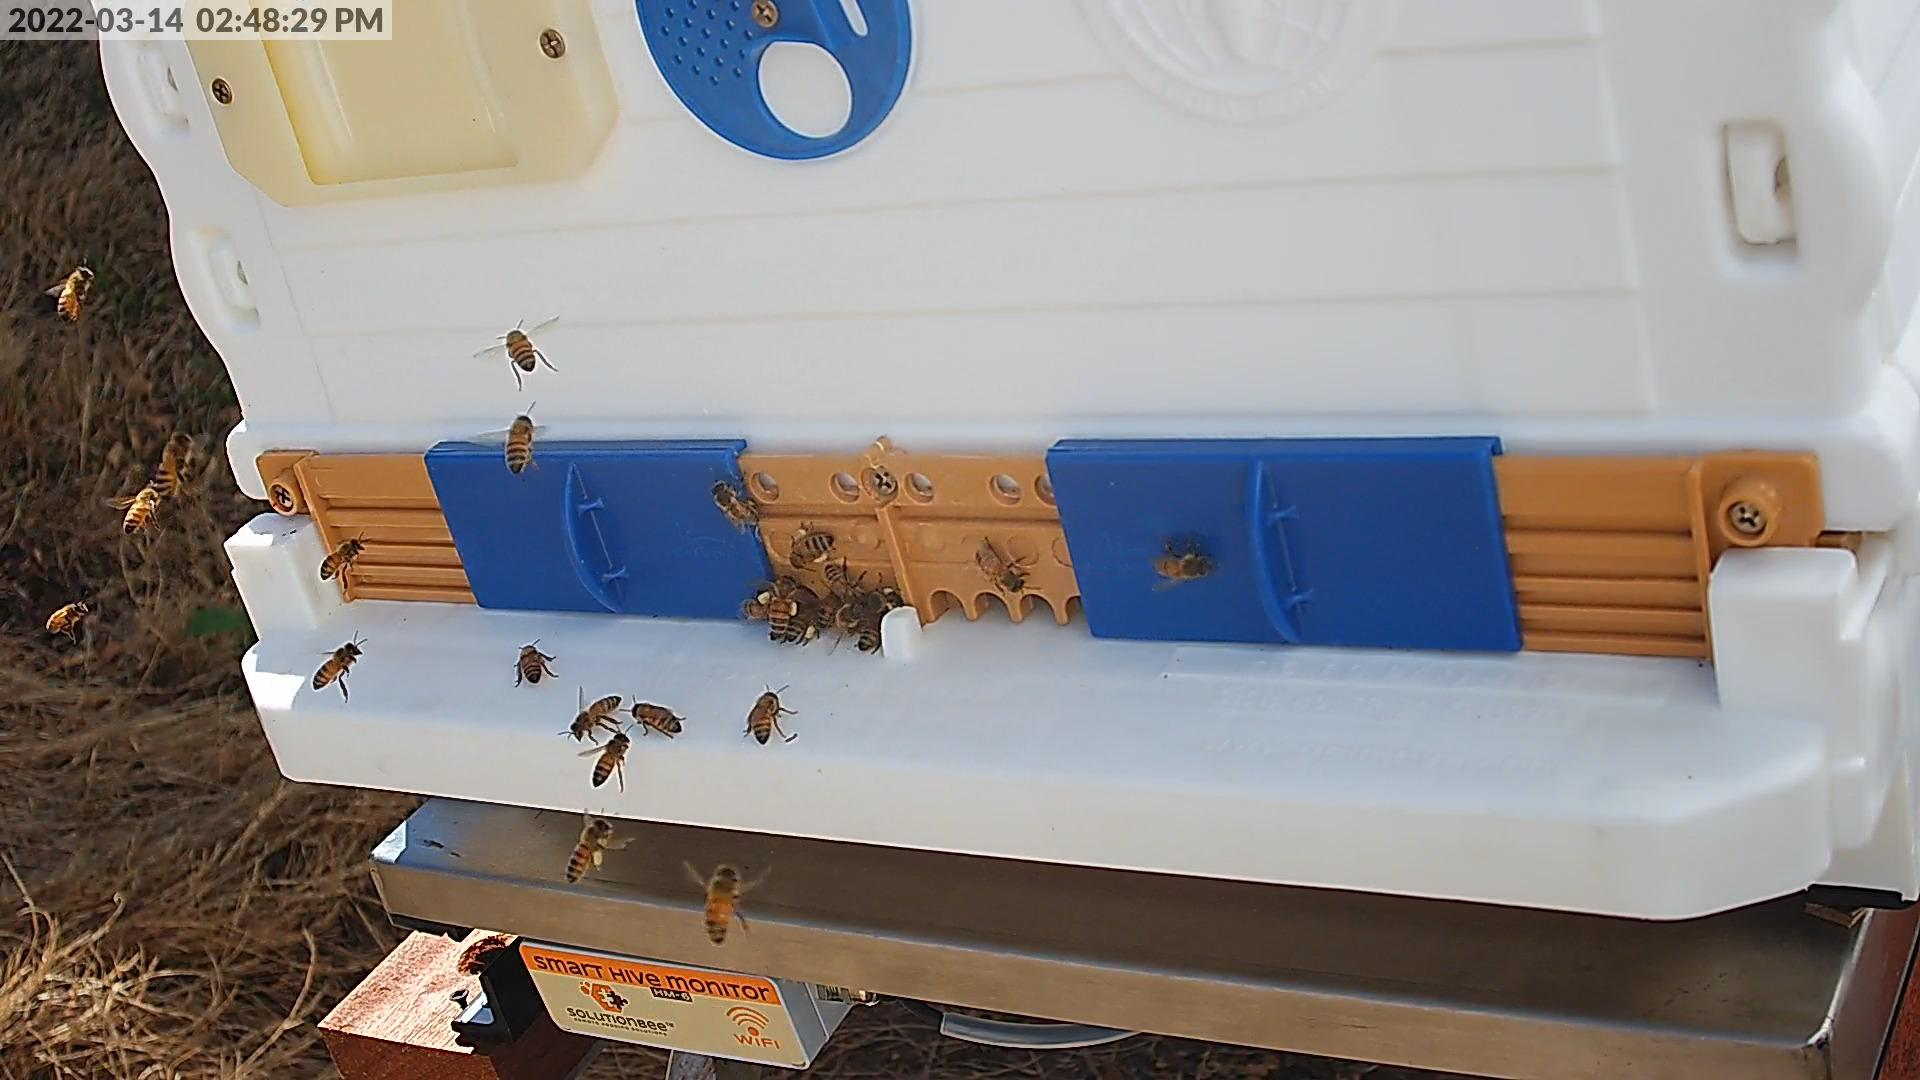bee: (858, 593, 903, 651), (976, 543, 1026, 592), (705, 865, 736, 940), (311, 642, 359, 690), (57, 265, 95, 320), (160, 430, 193, 492), (592, 735, 629, 787), (712, 481, 760, 522), (572, 696, 622, 735), (123, 484, 158, 534), (322, 538, 364, 579), (506, 417, 534, 475), (1156, 554, 1211, 579), (505, 330, 535, 373), (825, 566, 862, 601), (634, 703, 682, 731), (753, 691, 777, 742), (46, 603, 86, 632), (518, 645, 543, 683), (815, 595, 841, 628), (836, 604, 861, 634), (742, 601, 782, 620), (865, 589, 889, 612)
pollenbee: (567, 819, 612, 881), (758, 575, 798, 640), (791, 530, 835, 568), (786, 603, 820, 644)
